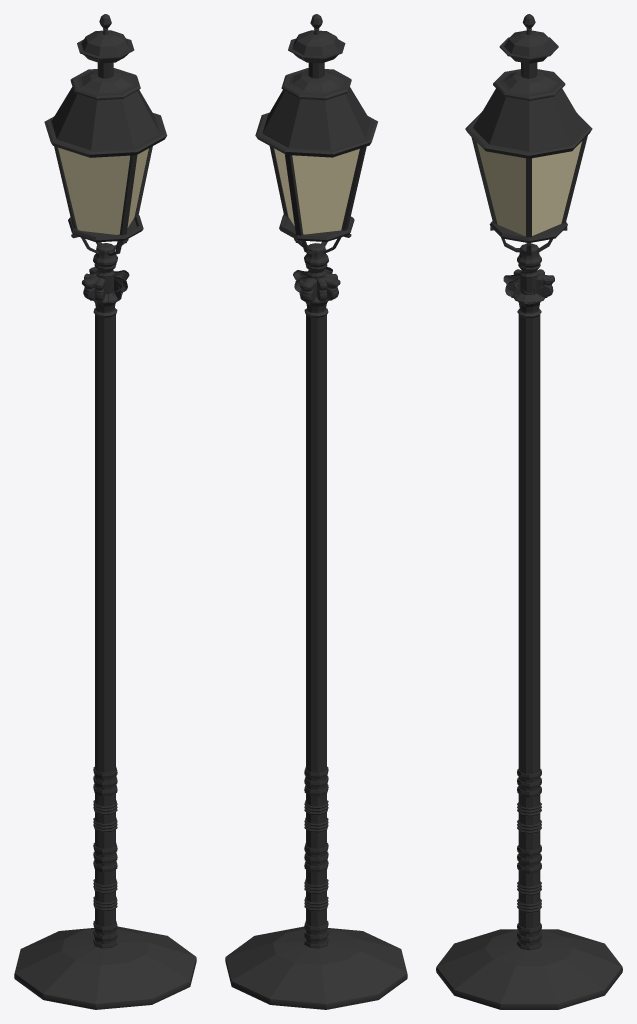
File: Lantern02.fbx
The picture shows the model from 3 angles, left to right: view 1: azimuth 30°, elevation 25°; view 2: azimuth 150°, elevation 25°; view 3: azimuth 270°, elevation 25°; orthographic projection.
Visible parts, largest first — view 1: Torus.011, Cylinder.001, Cube.002, Cube.004, Plane.005; view 2: Torus.011, Cylinder.001, Cube.002, Cube.004, Plane.005; view 3: Torus.011, Cylinder.001, Cube.002, Cube.004, Plane.005.
Part boxes in pixels (x1,y1,x2,y2): Torus.011: [14, 243, 196, 1009]; Cylinder.001: [51, 14, 159, 150]; Cube.002: [58, 147, 148, 234]; Cube.004: [44, 113, 167, 242]; Plane.005: [82, 267, 129, 302]; Torus.011: [225, 243, 407, 1009]; Cylinder.001: [262, 14, 370, 150]; Cube.002: [274, 148, 359, 234]; Cube.004: [255, 112, 377, 241]; Plane.005: [293, 267, 340, 302]; Torus.011: [436, 243, 622, 1009]; Cylinder.001: [473, 14, 585, 151]; Cube.002: [477, 141, 581, 235]; Cube.004: [465, 111, 592, 242]; Plane.005: [503, 269, 554, 304].
Bounding box in the file's own units: 199 × 1185 × 209.
